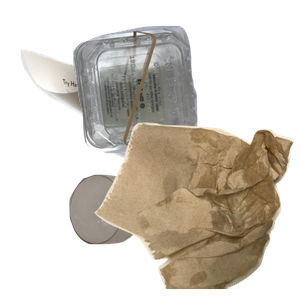glass: (67, 172, 229, 300)
paper: (18, 30, 213, 210)
plastic: (71, 23, 300, 169)
trash: (92, 120, 300, 300)
